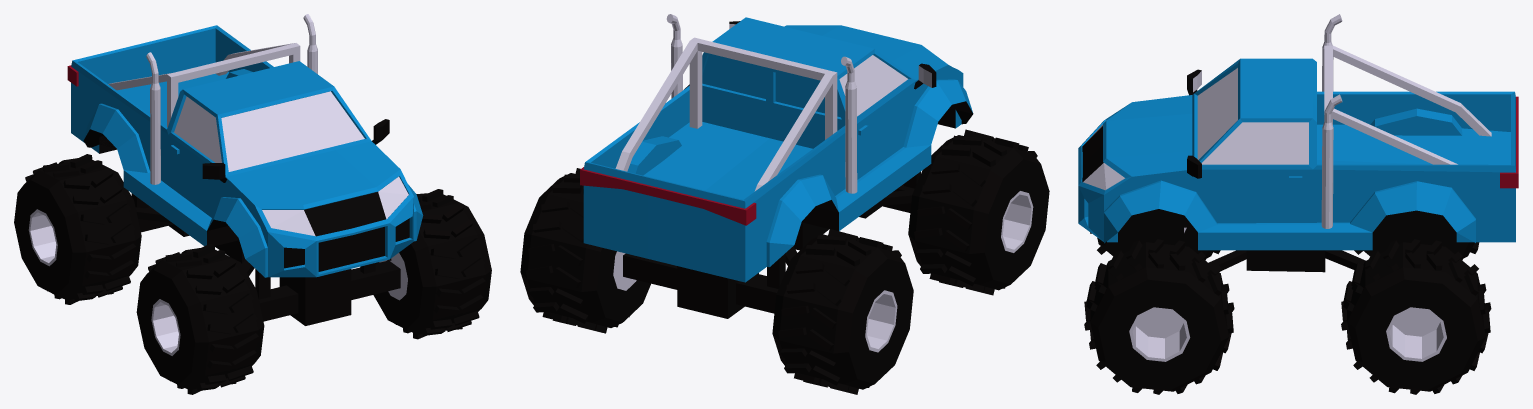
The model's file is optimized_moster_truck.fbx.
The picture shows the model from 3 angles, left to right: view 1: azimuth 30°, elevation 25°; view 2: azimuth 150°, elevation 25°; view 3: azimuth 270°, elevation 25°; orthographic projection. The views are drawn at different scales.
Visible parts, largest first — view 1: Monster Truck; view 2: Monster Truck; view 3: Monster Truck.
Part boxes in pixels (x1,y1,x2,y2): Monster Truck: [14, 14, 491, 394]; Monster Truck: [520, 14, 1049, 394]; Monster Truck: [1078, 14, 1518, 394].
Size of the model in its own units: 447 by 373 by 549.
